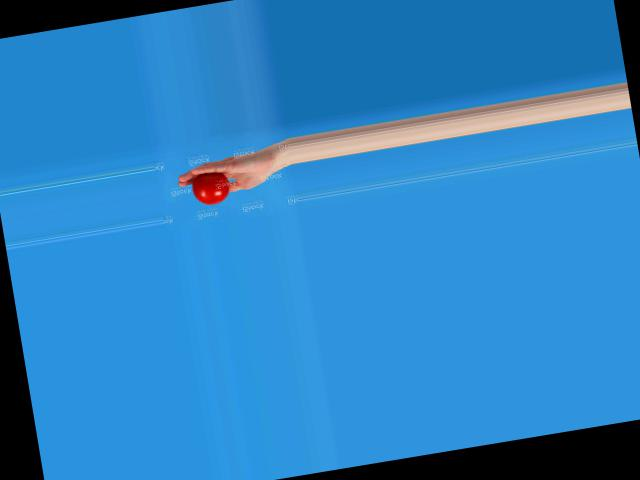tomato: (190, 170, 231, 206)
